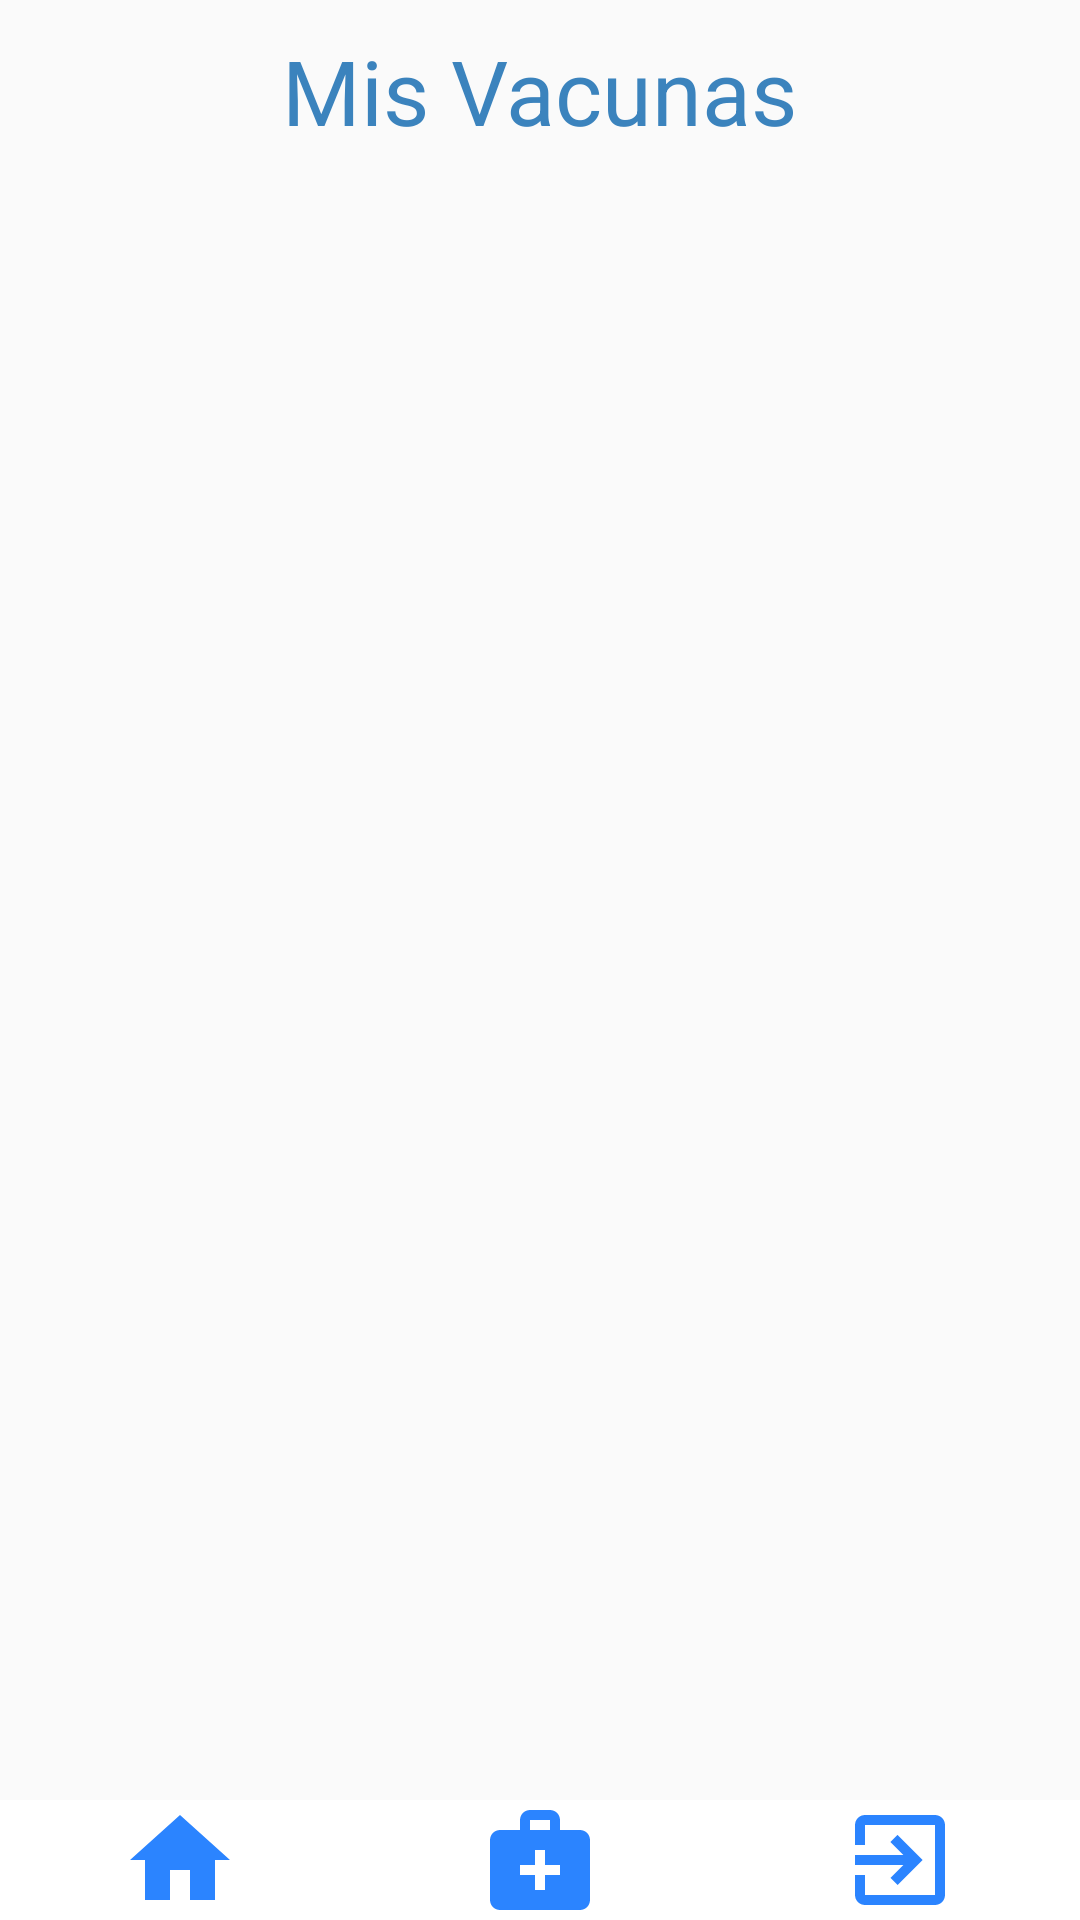

Icon click points for this 1080*1920 phone screenshot, format point (x, y):
exit to app: point (900, 1860)
home: point (180, 1857)
medical services: point (540, 1860)
